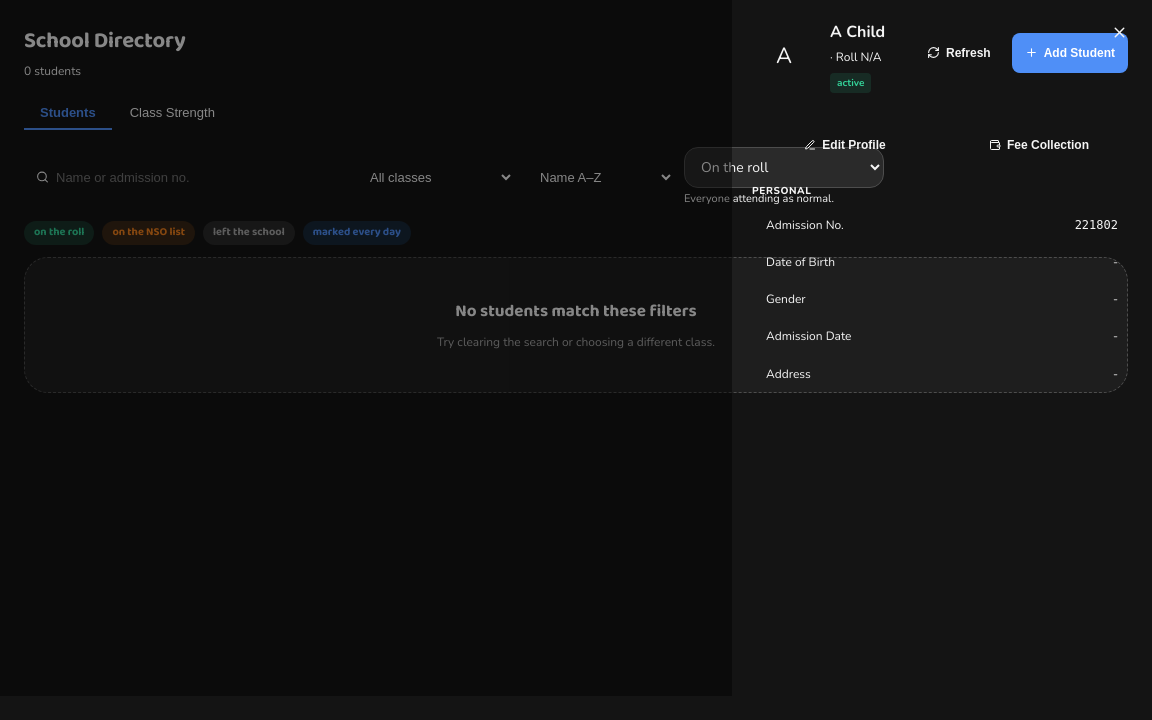
a failed transaction load shows the error and no fine/total row, never a stale-looking figure
Click the button "Fee Collection".
click(1039, 145)  # box 946,125 -> 1132,165
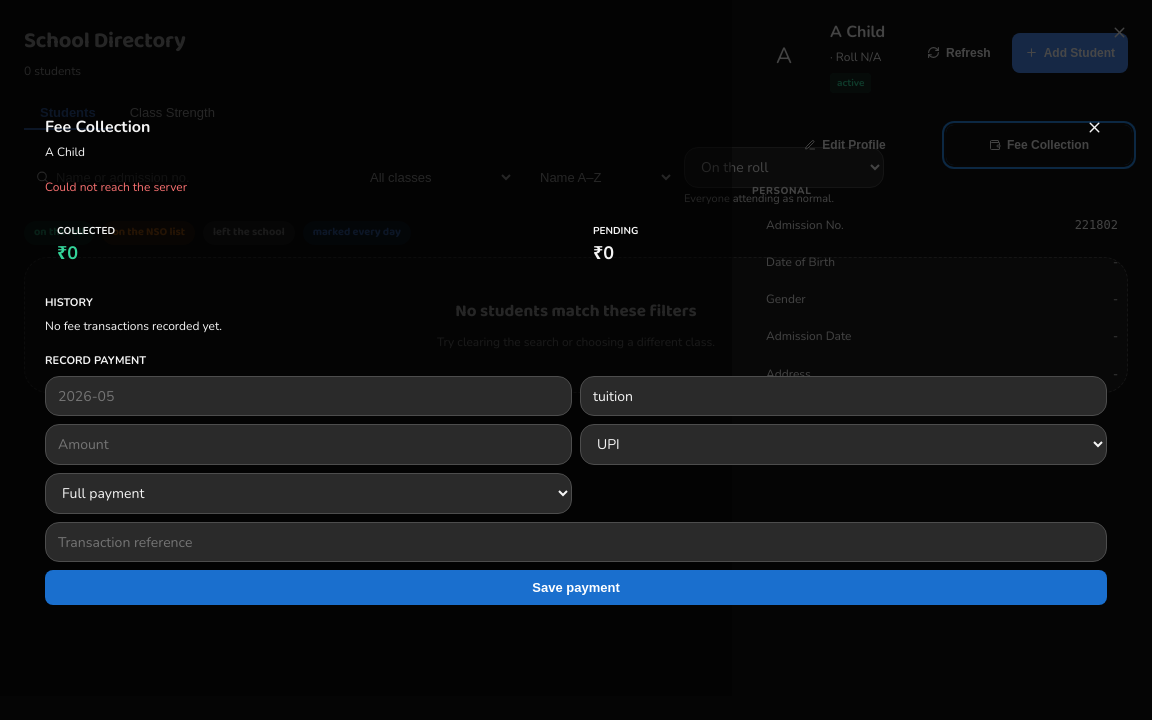
Check: the element with test id "student-fee-panel" is shown
Check: the message reads "Could not reach the server", box 45,179 -> 187,195
